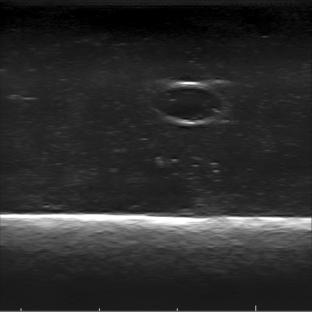vessel: (149, 81, 226, 126)
